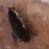cockroach: (6, 6, 32, 42)
